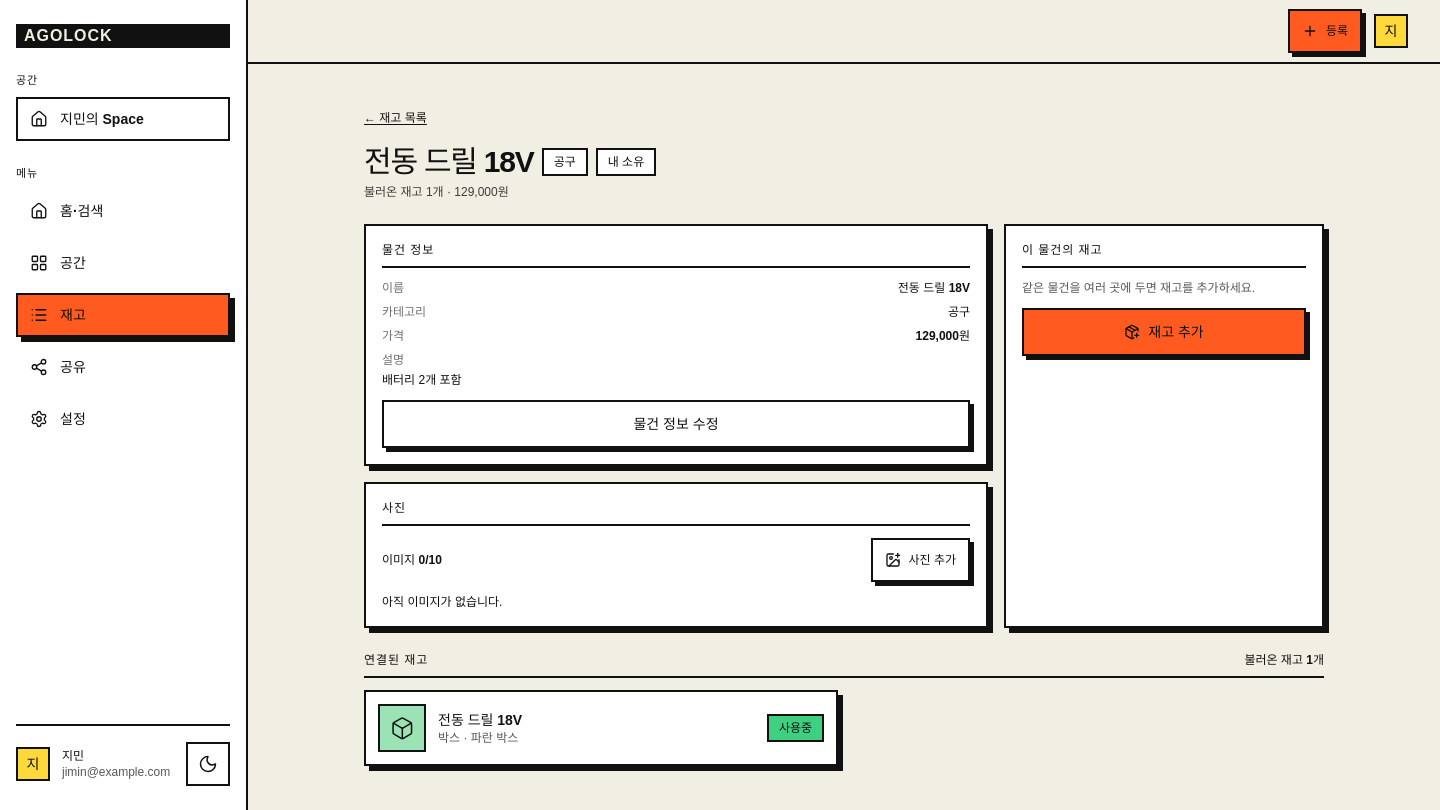
Test: 물건 상세 › 연결된 재고와 재고 추가 진입을 보여준다
Expected: the heading "전동 드릴 18V" is shown, x1=364 y1=144 x2=534 y2=180
Expected: the text "연결된 재고" is shown, x1=364 y1=652 x2=428 y2=668
Click the button "재고 추가".
click(1164, 332)  # box x1=1022 y1=308 x2=1306 y2=356
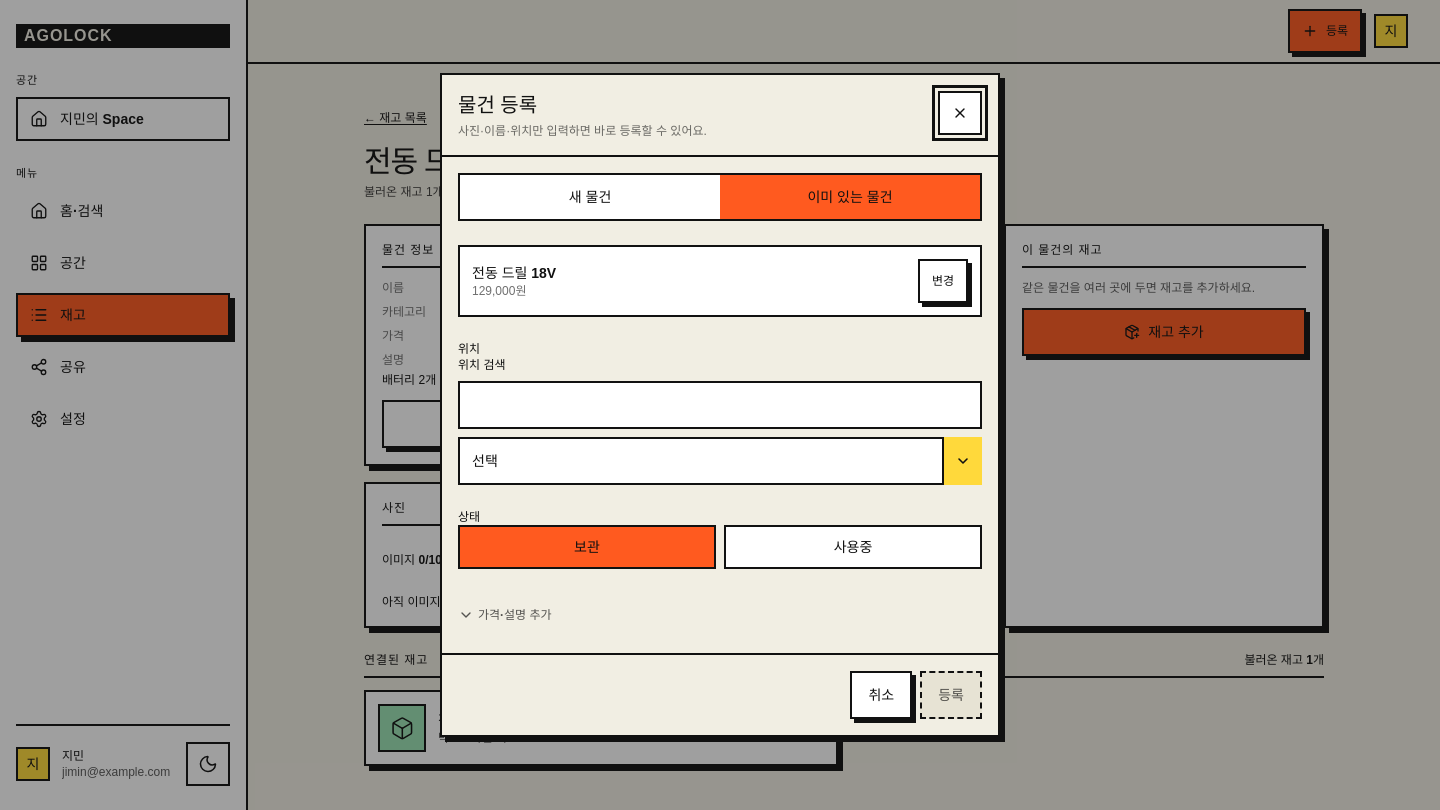
Expected: the heading "물건 등록" is shown, x1=458 y1=94 x2=537 y2=116
